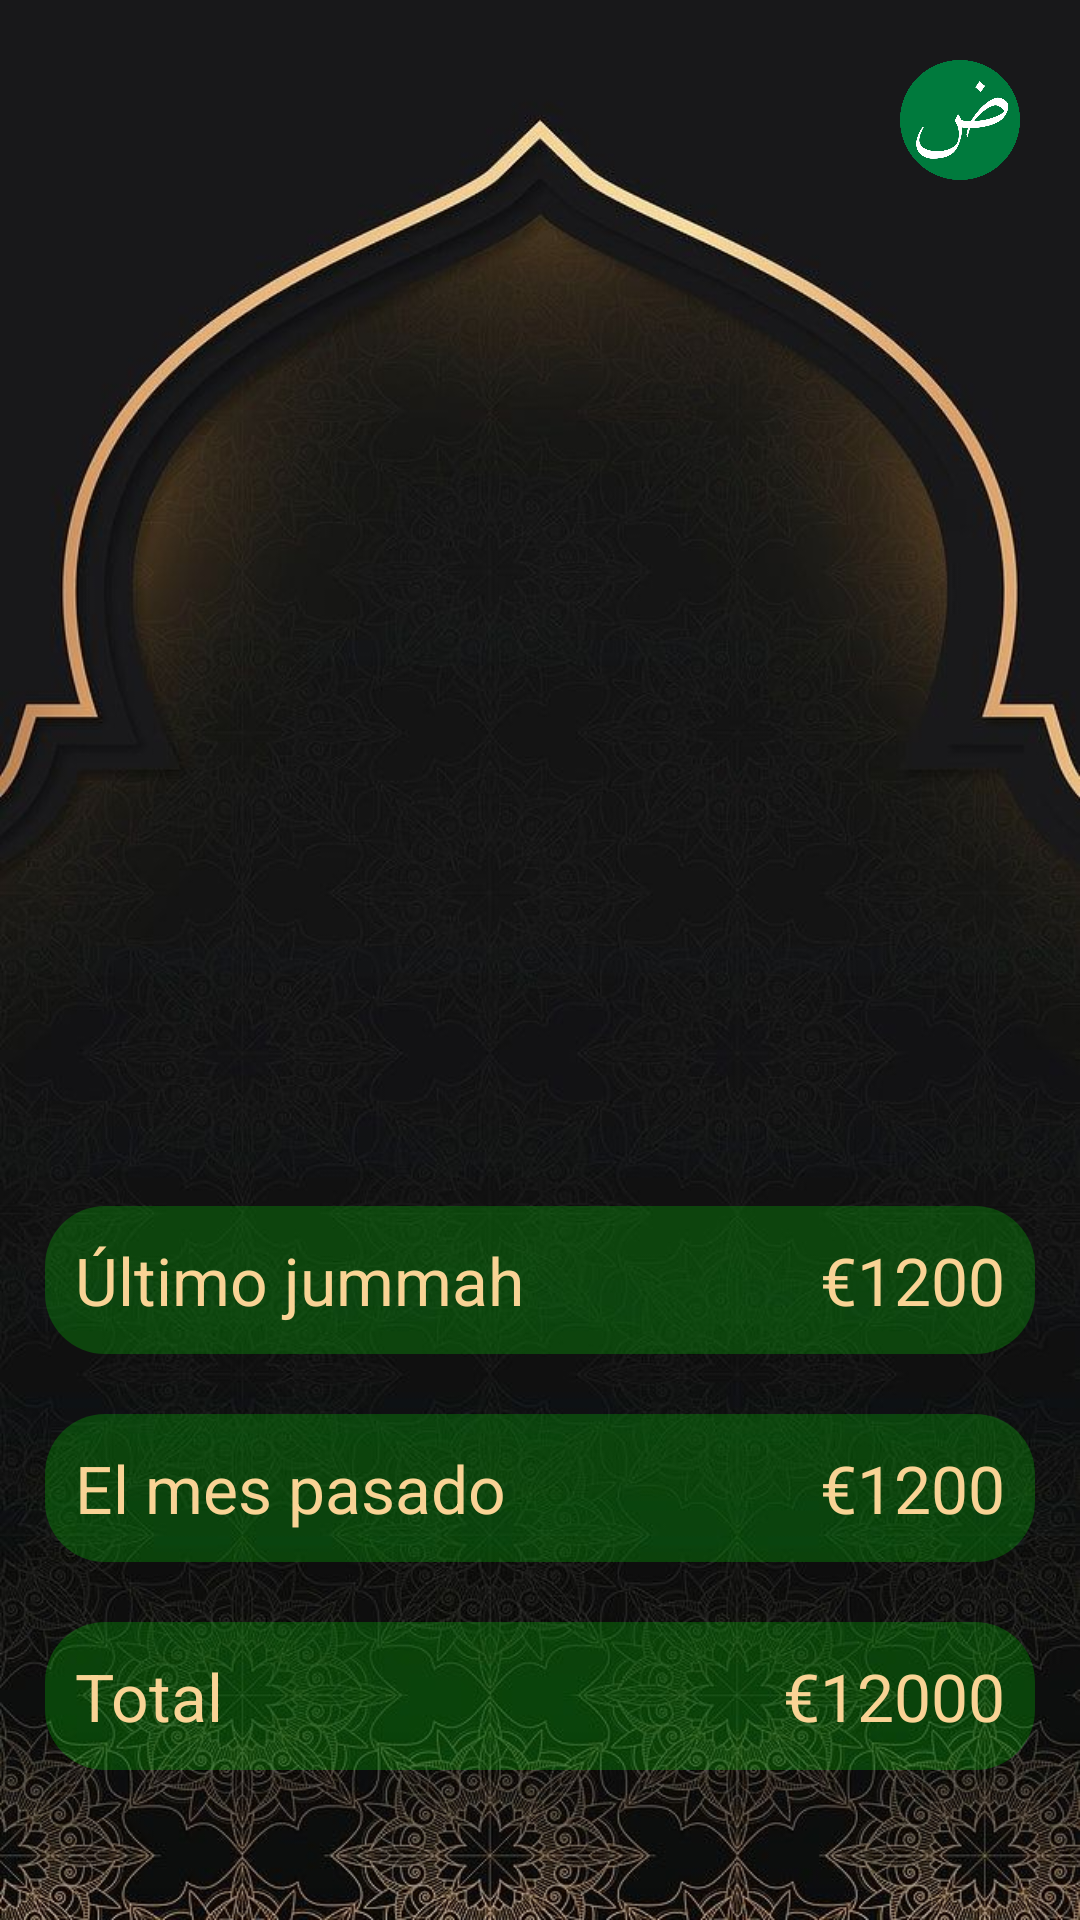

Icon click points for this 1080 x 1920 phone screenshot, format point (x, y):
arab: point (960, 120)
